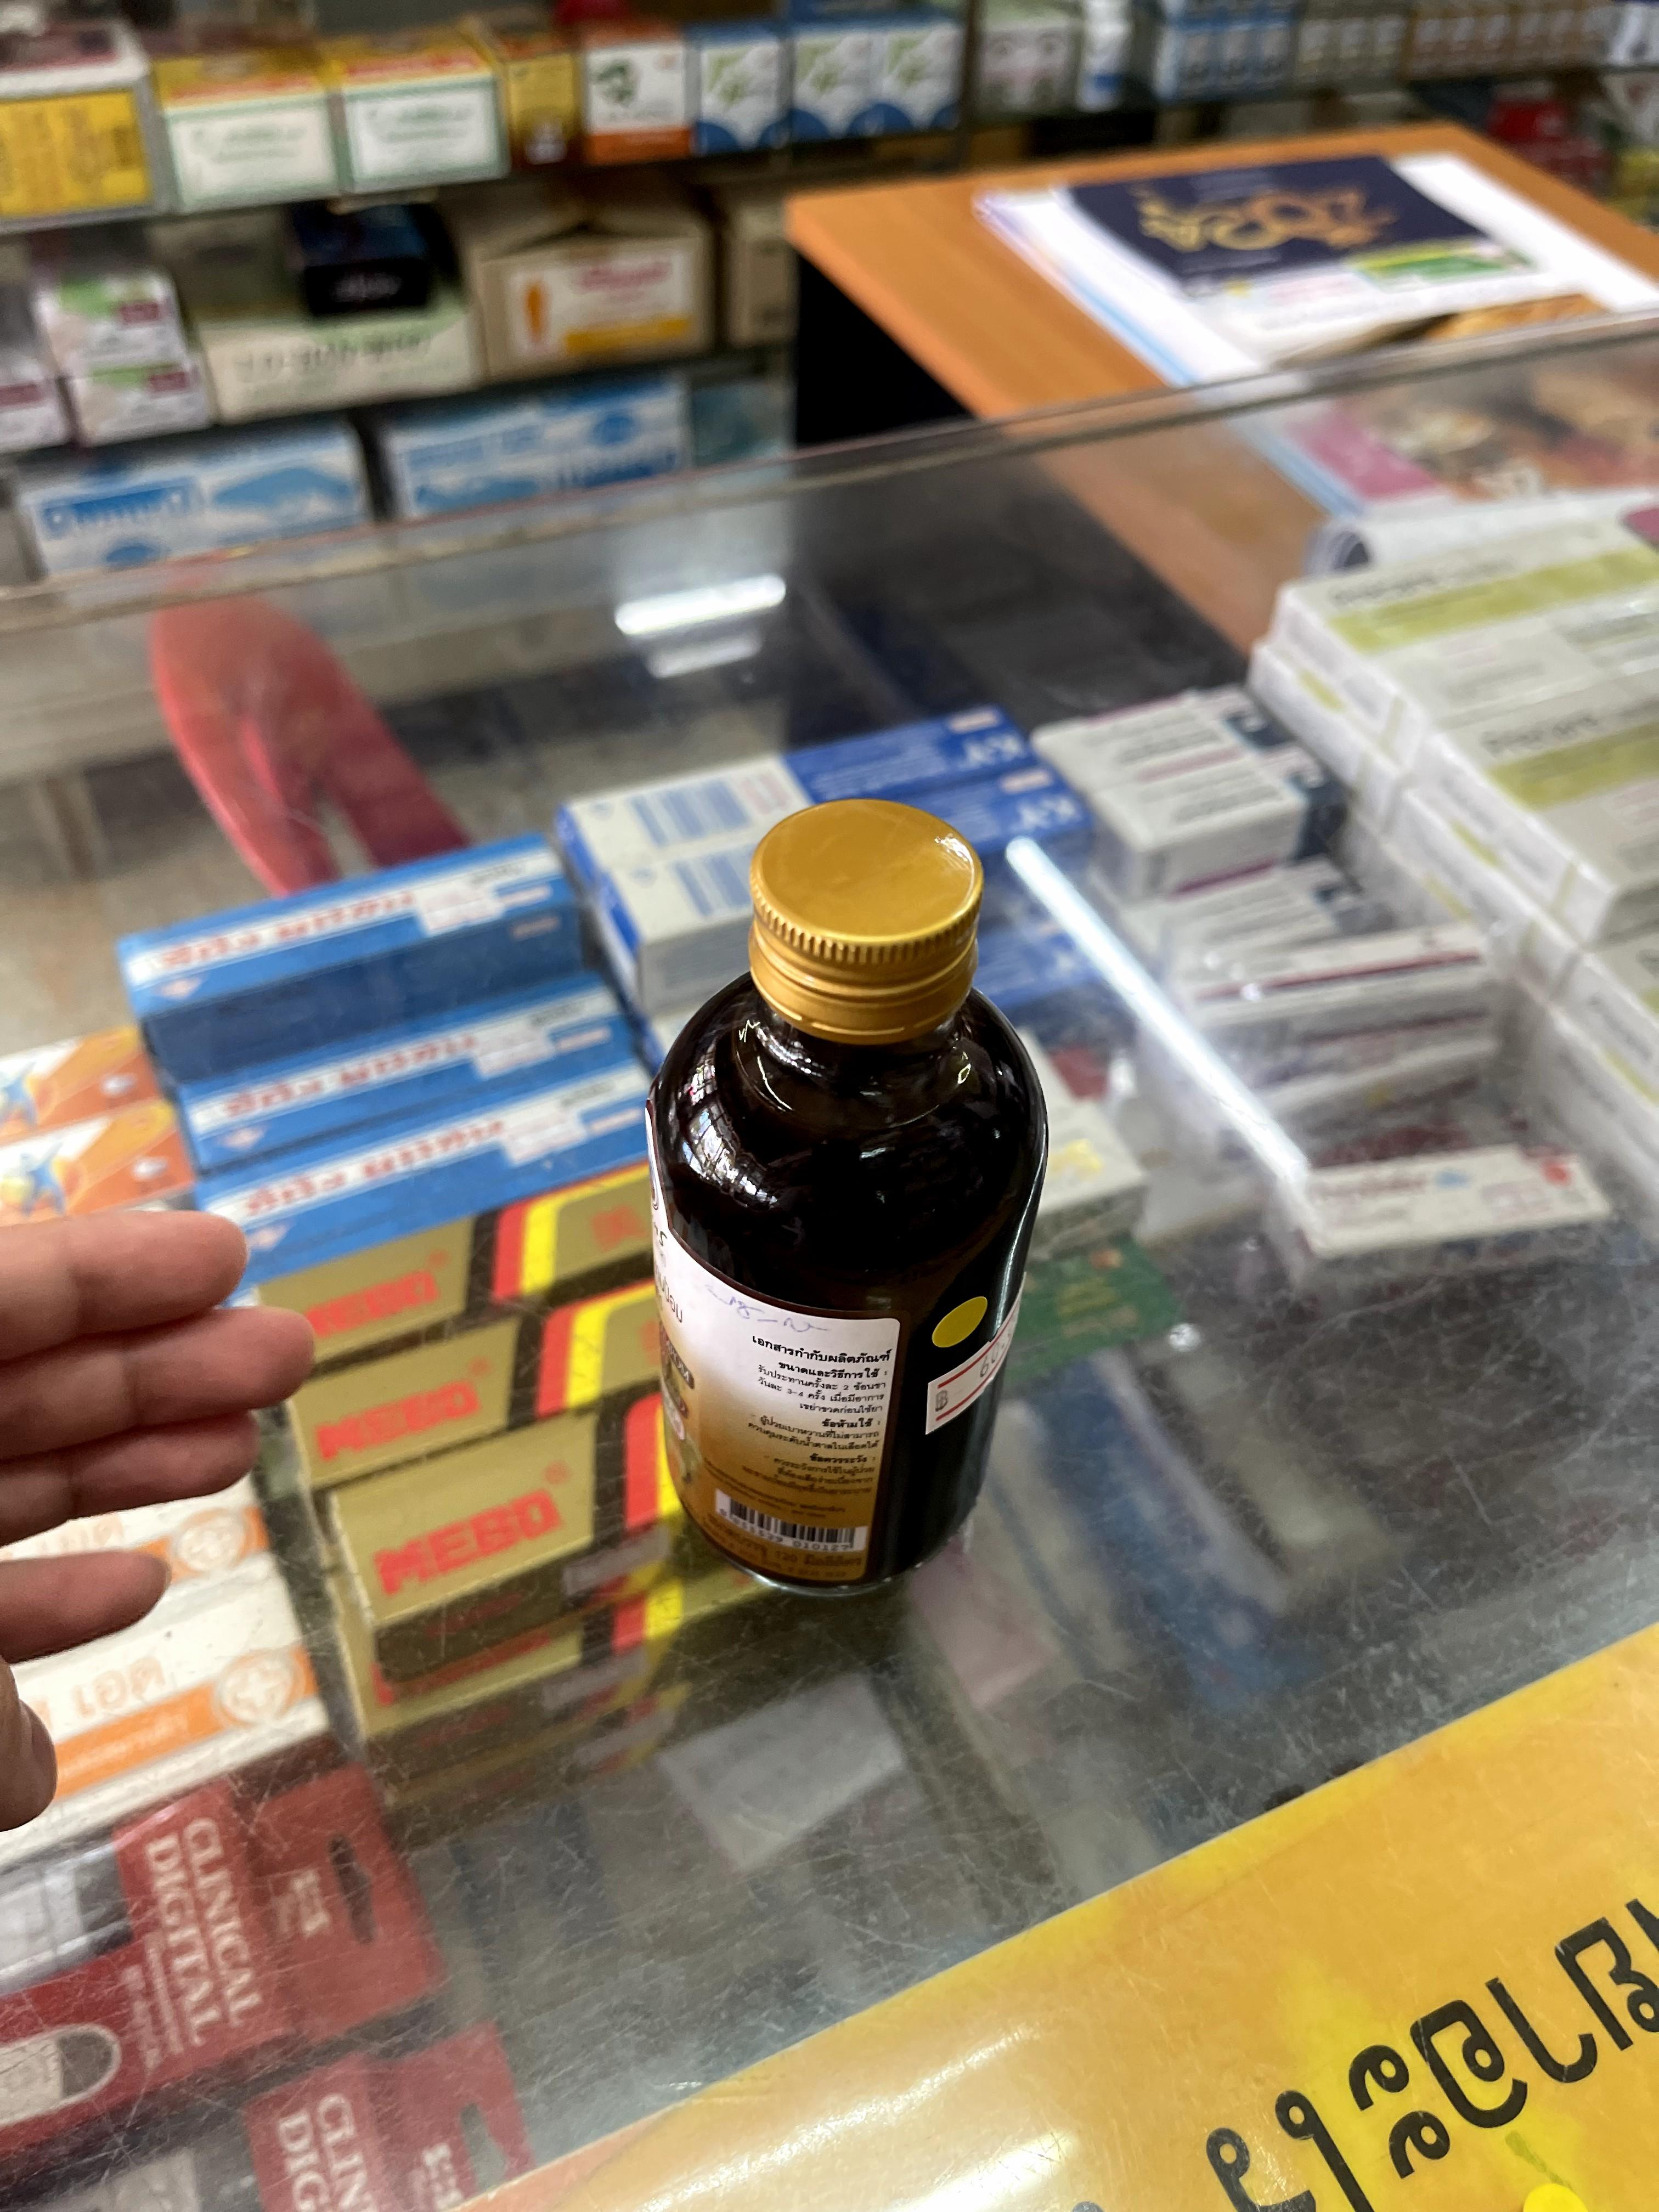Ma-Kham-Pom_Bottle: (653, 798, 1046, 1585)
